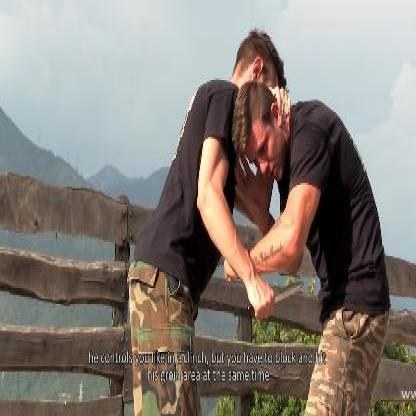knife: (245, 274, 305, 322)
